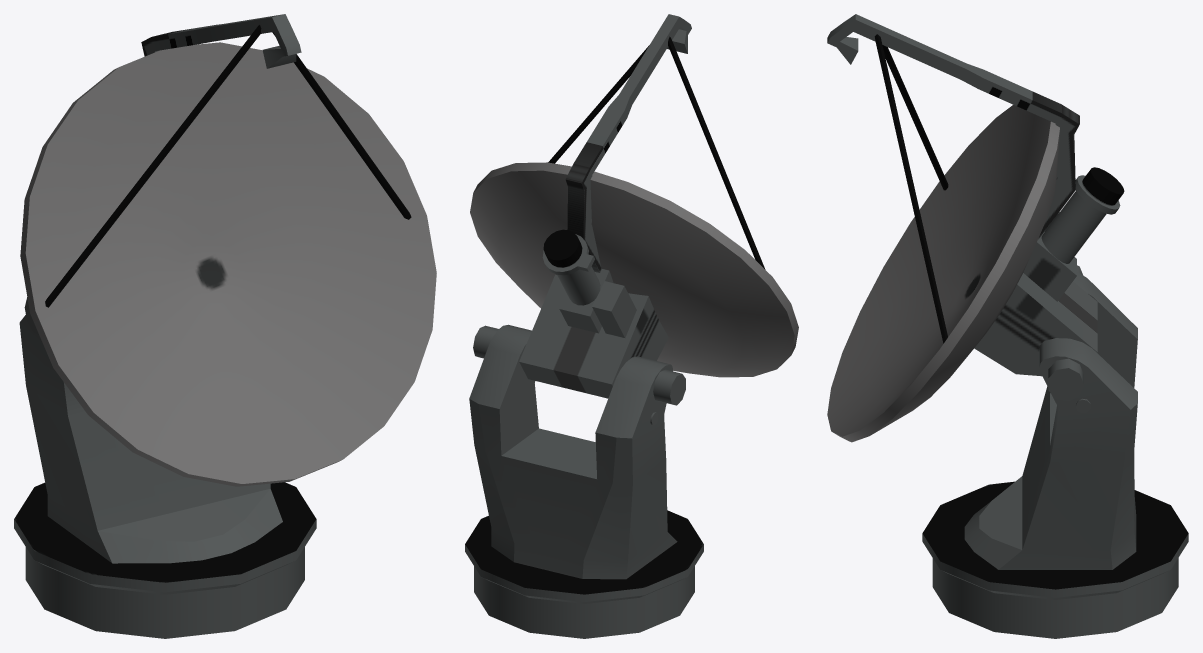
Rendered from spg62.obj.
3 renders of one model, left to right at view 1: azimuth 30°, elevation 25°; view 2: azimuth 150°, elevation 25°; view 3: azimuth 270°, elevation 25°, orthographic. The views are drawn at different scales.
Visible parts, largest first — view 1: SPG62_antenna, SPG62_roll, SPG62_base; view 2: SPG62_antenna, SPG62_roll, SPG62_base; view 3: SPG62_antenna, SPG62_roll, SPG62_base.
Part boxes in pixels (x1=…): SPG62_antenna: x1=20, y1=14, x2=436, y2=486; SPG62_roll: x1=19, y1=315, x2=282, y2=563; SPG62_base: x1=14, y1=482, x2=316, y2=638; SPG62_antenna: x1=470, y1=14, x2=798, y2=405; SPG62_roll: x1=469, y1=324, x2=677, y2=579; SPG62_base: x1=465, y1=510, x2=703, y2=638; SPG62_antenna: x1=827, y1=14, x2=1124, y2=442; SPG62_roll: x1=964, y1=272, x2=1137, y2=569; SPG62_base: x1=922, y1=481, x2=1188, y2=638.
Bounding box in the file's own units: 2.9 × 4.59 × 2.63.
1 material, 1 textured.
